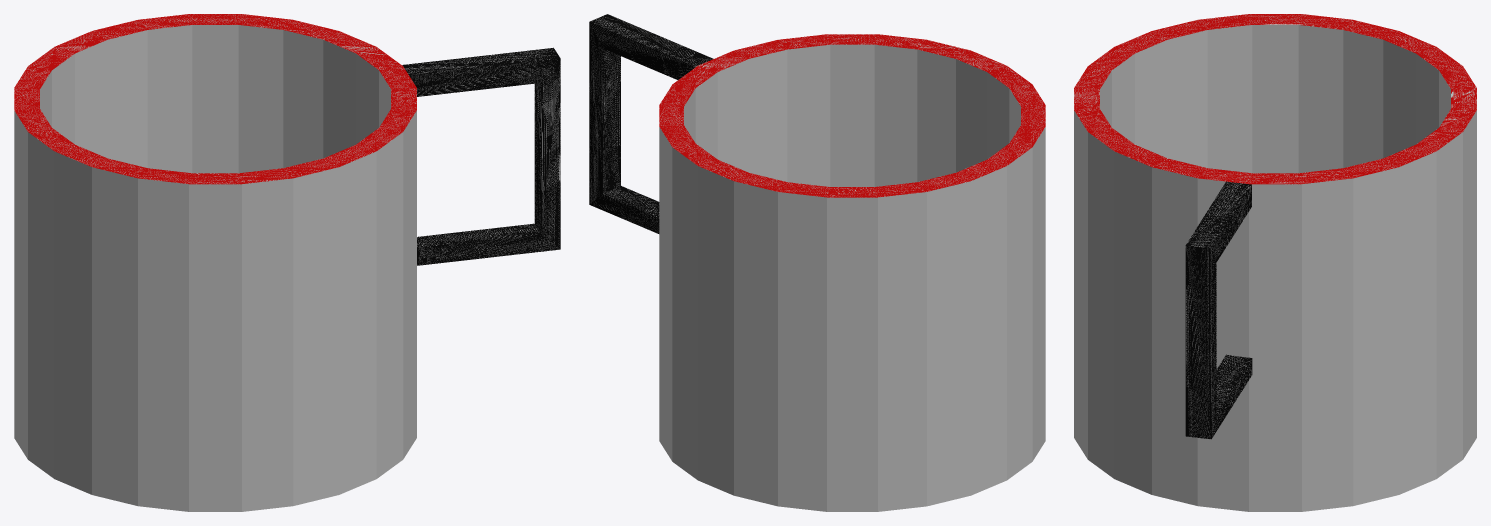
3 renders of one model, left to right at view 1: azimuth 30°, elevation 25°; view 2: azimuth 150°, elevation 25°; view 3: azimuth 270°, elevation 25°, orthographic. The views are drawn at different scales.
Visible parts, largest first — view 1: mesh1_mesh1-geometry; view 2: mesh1_mesh1-geometry; view 3: mesh1_mesh1-geometry.
Boxes of the visible parts, <box> form: mesh1_mesh1-geometry: <box>14,14,560,511</box>; mesh1_mesh1-geometry: <box>589,14,1045,511</box>; mesh1_mesh1-geometry: <box>1074,14,1476,511</box>.
Bounding box in the file's own units: 0.7159 × 0.4665 × 0.5195.
